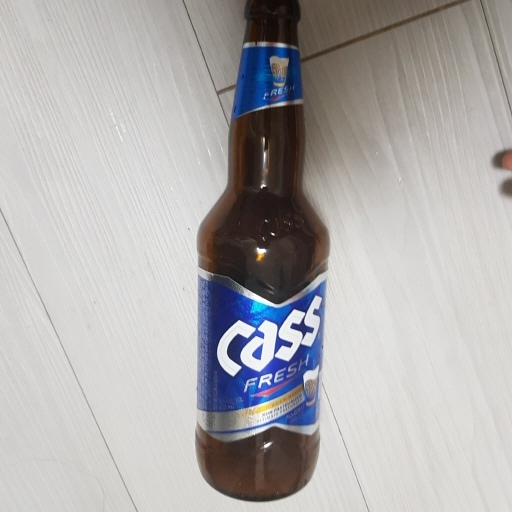Glass_1: (193, 2, 326, 503)
